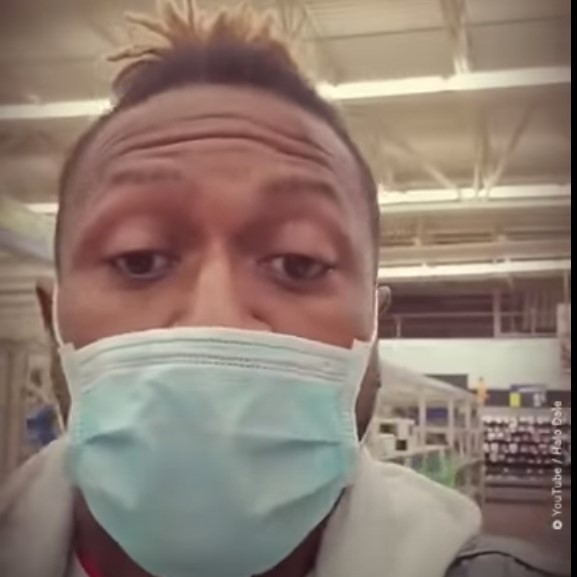face_with_mask: (52, 58, 378, 568)
